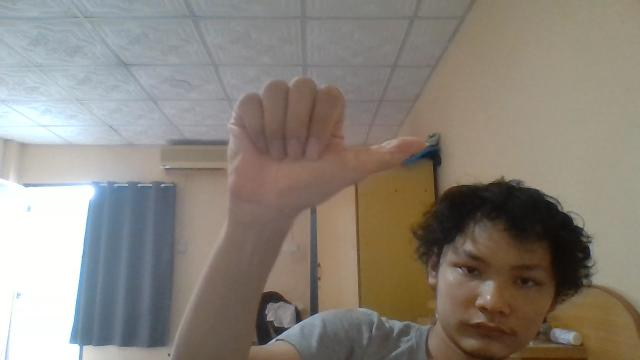left: (226, 76, 427, 216)
